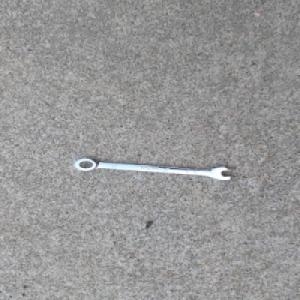Wrench: (72, 157, 236, 181)
